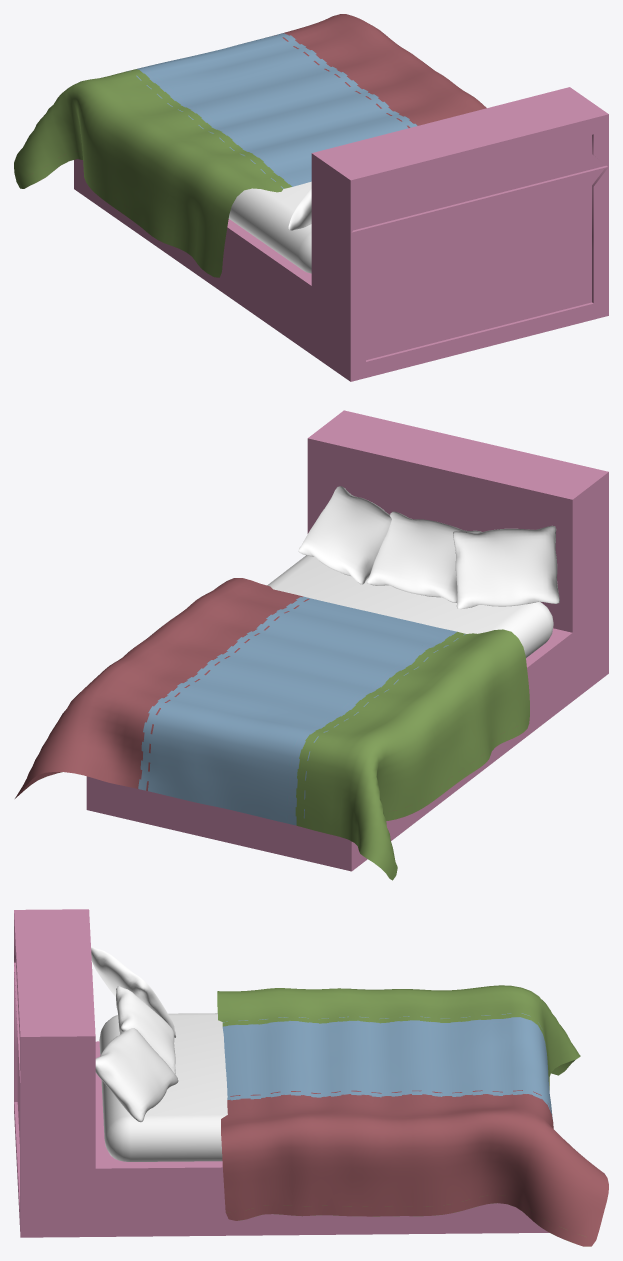
File: Bed.obj
The picture shows the model from 3 angles, top to bottom: view 1: azimuth 30°, elevation 25°; view 2: azimuth 150°, elevation 25°; view 3: azimuth 270°, elevation 25°; orthographic projection.
Parts seen in each view (by area): view 1: bed5:group2_pasted__Mesh_pasted__polySurface1; view 2: bed5:group2_pasted__Mesh_pasted__polySurface1; view 3: bed5:group2_pasted__Mesh_pasted__polySurface1.
Part boxes in pixels (<box>): bed5:group2_pasted__Mesh_pasted__polySurface1: <box>14,14,608,381</box>; bed5:group2_pasted__Mesh_pasted__polySurface1: <box>15,410,608,880</box>; bed5:group2_pasted__Mesh_pasted__polySurface1: <box>14,909,608,1246</box>.
Size of the model in its own units: 1.01 by 0.5342 by 1.44.
6 materials, 6 textured.
